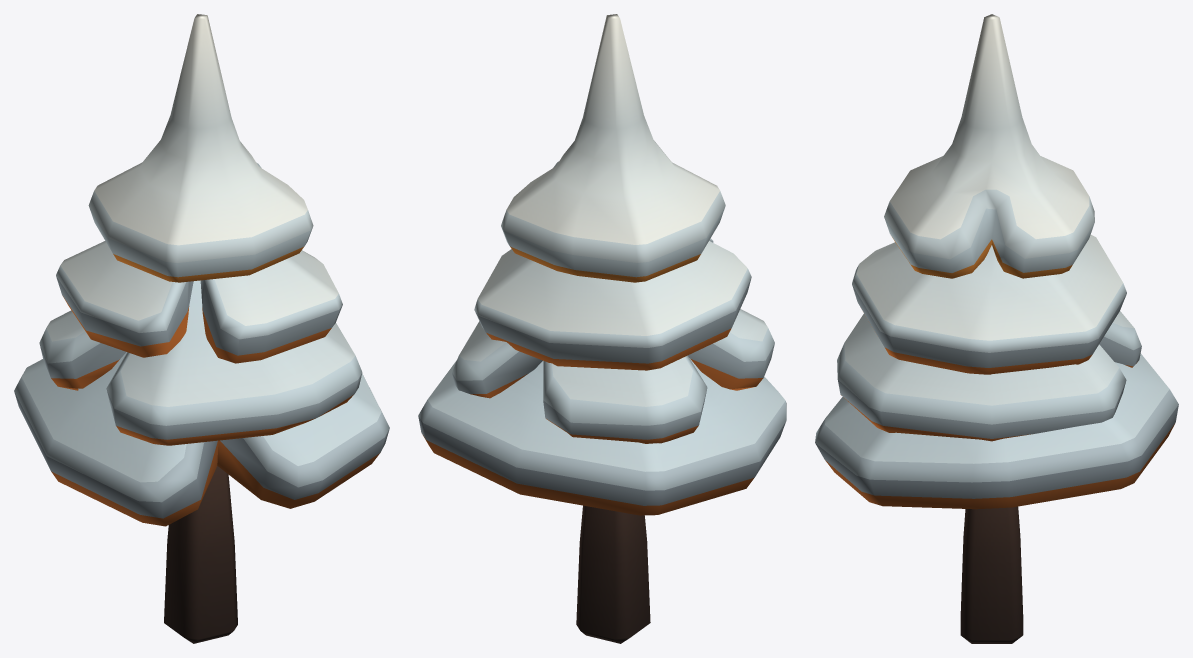
Rendered from pine_tree_col2_10_snow.fbx.
3 views of the same model, side by side, from view 1: azimuth 30°, elevation 25°; view 2: azimuth 150°, elevation 25°; view 3: azimuth 270°, elevation 25° (orthographic).
Visible parts, largest first — view 1: pine_tree_col2_10_snow; view 2: pine_tree_col2_10_snow; view 3: pine_tree_col2_10_snow.
Part boxes in pixels (x1,y1,x2,y2): pine_tree_col2_10_snow: [14, 14, 389, 643]; pine_tree_col2_10_snow: [418, 14, 786, 643]; pine_tree_col2_10_snow: [815, 14, 1178, 643].
Bounding box in the file's own units: 352 × 678 × 362.
1 material, 1 textured.
